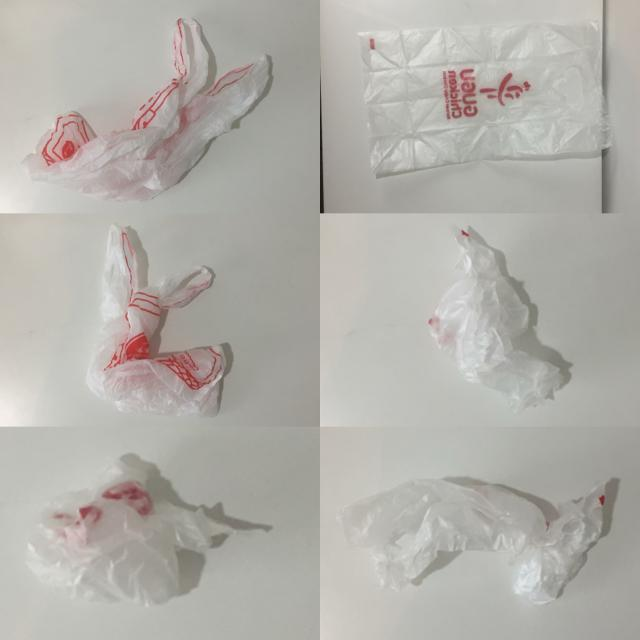Single-layer Plastic: (23, 19, 269, 201), (358, 21, 610, 175), (338, 479, 605, 604), (28, 455, 236, 605), (86, 225, 225, 416), (429, 228, 563, 412)
